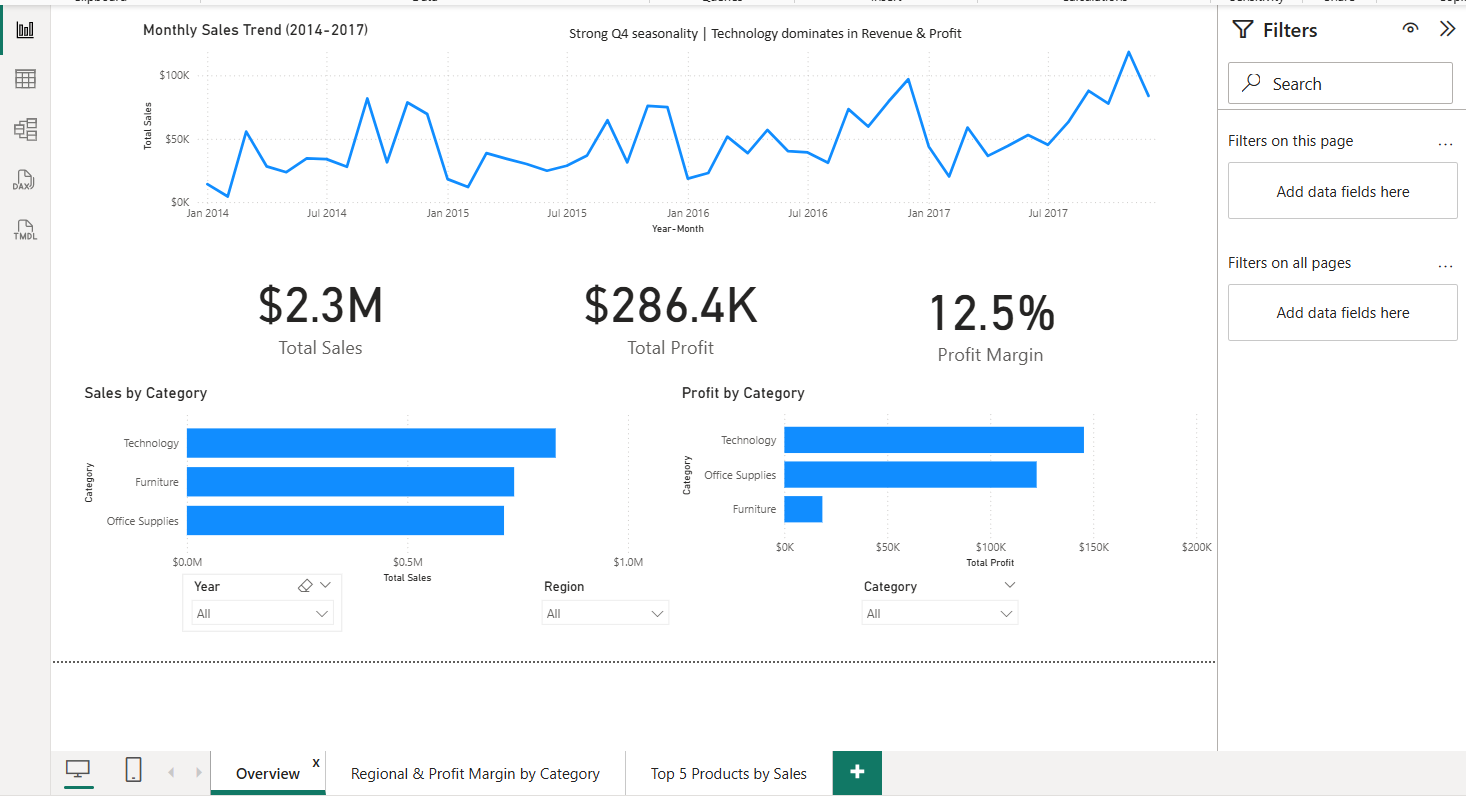

This screenshot's page, from the dashboard's own definition file:
{"tool":"powerbi","page":{"name":"Overview","canvas":[1280,720],"ordinal":0},"visuals":[{"type":"lineChart","title":"Monthly Sales Trend (2014-2017)","fields":{"Y":["Portfolio_Project_1_Superstore.Total Sales"],"Category":["Portfolio_Project_1_Superstore.Year-Month "]},"box":[96,16,1136,240],"z":0},{"type":"card","fields":{"Values":["Portfolio_Project_1_Superstore.Total Sales"]},"box":[144,272,304,128],"z":1000},{"type":"card","fields":{"Values":["Portfolio_Project_1_Superstore.Total Profit"]},"box":[528,272,304,128],"z":2000},{"type":"card","fields":{"Values":["Portfolio_Project_1_Superstore.Profit Margin"]},"box":[880,272,304,144],"z":3000},{"type":"barChart","title":"Sales by Category","fields":{"Category":["Portfolio_Project_1_Superstore.Category"],"Y":["Portfolio_Project_1_Superstore.Total Revenue"]},"box":[32,416,624,224],"z":4000},{"type":"barChart","title":"Profit by Category","fields":{"Y":["Portfolio_Project_1_Superstore.Total Profit"],"Category":["Portfolio_Project_1_Superstore.Category"]},"box":[688,416,592,208],"z":5000},{"type":"slicer","fields":{"Values":["Portfolio_Project_1_Superstore.Region"]},"box":[528,624,160,64],"z":6000},{"type":"slicer","fields":{"Values":["Portfolio_Project_1_Superstore.Order Date.Variation.Date Hierarchy.Year"]},"box":[144,624,176,64],"z":7000},{"type":"slicer","fields":{"Values":["Portfolio_Project_1_Superstore.Category"]},"box":[880,624,192,64],"z":8000},{"type":"textbox","box":[528,16,512,32],"z":9000}]}

Visuals, with their boxes on the page's 1280x720 design canvas (x1, y1, x2, y2). These are canvas units, not pixel positions in the 1466x796 screenshot, which may show the page scaled, cropped or inside an application window:
"Monthly Sales Trend (2014-2017)" lineChart: x1=96, y1=16, x2=1232, y2=256
card - Portfolio_Project_1_Superstore.Total Sales: x1=144, y1=272, x2=448, y2=400
card - Portfolio_Project_1_Superstore.Total Profit: x1=528, y1=272, x2=832, y2=400
card - Portfolio_Project_1_Superstore.Profit Margin: x1=880, y1=272, x2=1184, y2=416
"Sales by Category" barChart: x1=32, y1=416, x2=656, y2=640
"Profit by Category" barChart: x1=688, y1=416, x2=1280, y2=624
slicer - Portfolio_Project_1_Superstore.Region: x1=528, y1=624, x2=688, y2=688
slicer - Portfolio_Project_1_Superstore.Order Date.Variation.Date Hierarchy.Year: x1=144, y1=624, x2=320, y2=688
slicer - Portfolio_Project_1_Superstore.Category: x1=880, y1=624, x2=1072, y2=688
textbox: x1=528, y1=16, x2=1040, y2=48
